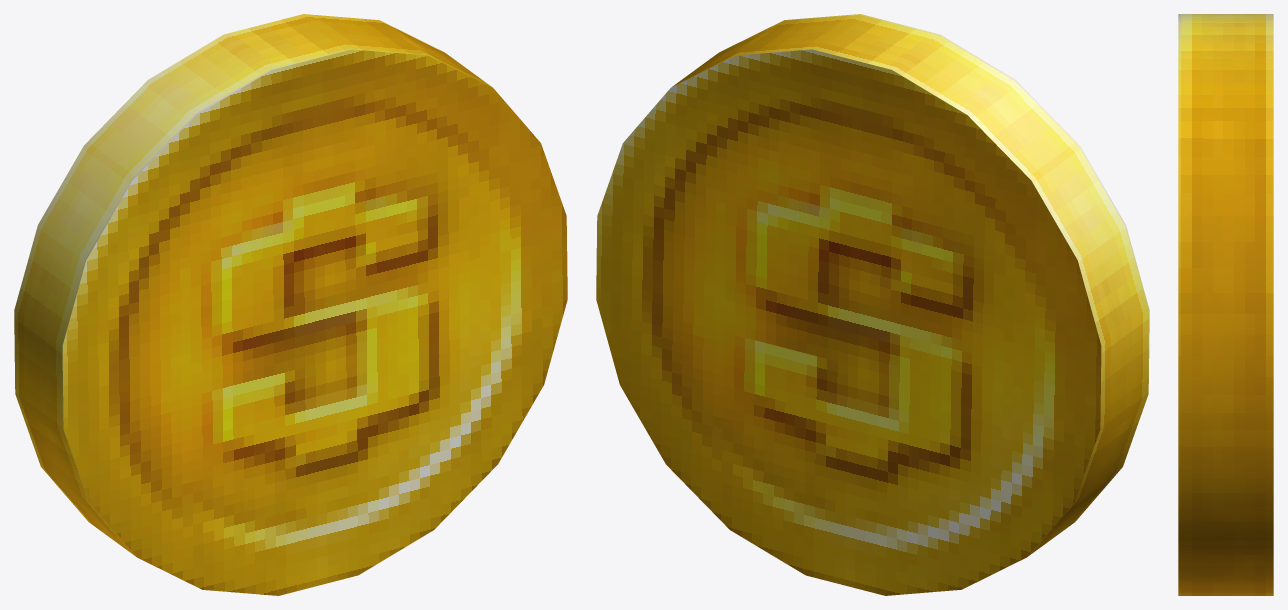
Rendered from ts_jbtt001.FBX.
3 renders of one model, left to right at view 1: azimuth 30°, elevation 25°; view 2: azimuth 150°, elevation 25°; view 3: azimuth 270°, elevation 25°, orthographic.
Parts seen in each view (by area): view 1: ts_jbtt001; view 2: ts_jbtt001; view 3: ts_jbtt001.
Boxes of the visible parts, <box> form: ts_jbtt001: <box>14,14,567,595</box>; ts_jbtt001: <box>596,14,1149,595</box>; ts_jbtt001: <box>1178,14,1273,595</box>.
Bounding box in the file's own units: 0.4897 × 0.0811 × 0.4897.
